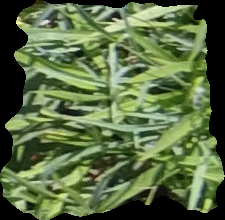grass: (1, 1, 224, 218)
